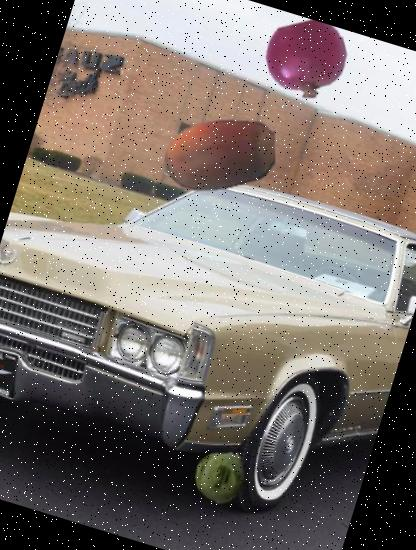Hazelnut: (144, 84, 290, 230)
Kohlrabi: (186, 440, 255, 510)
Redcurrant: (257, 10, 358, 110)
